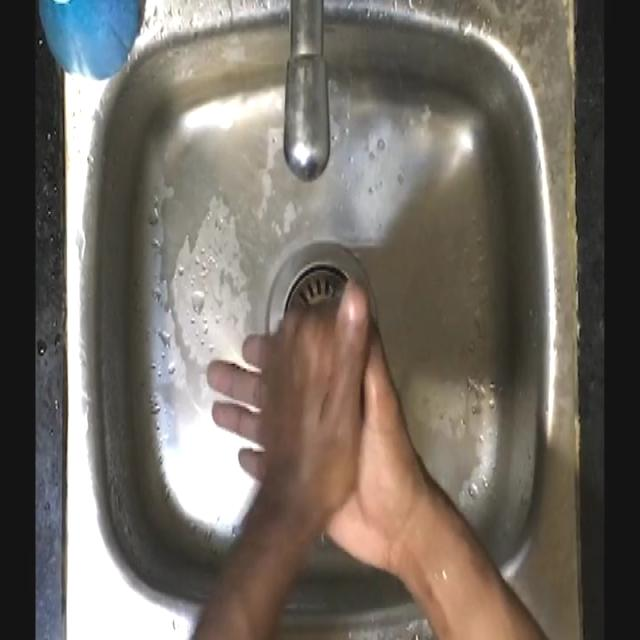step_5: (203, 262, 410, 576)
